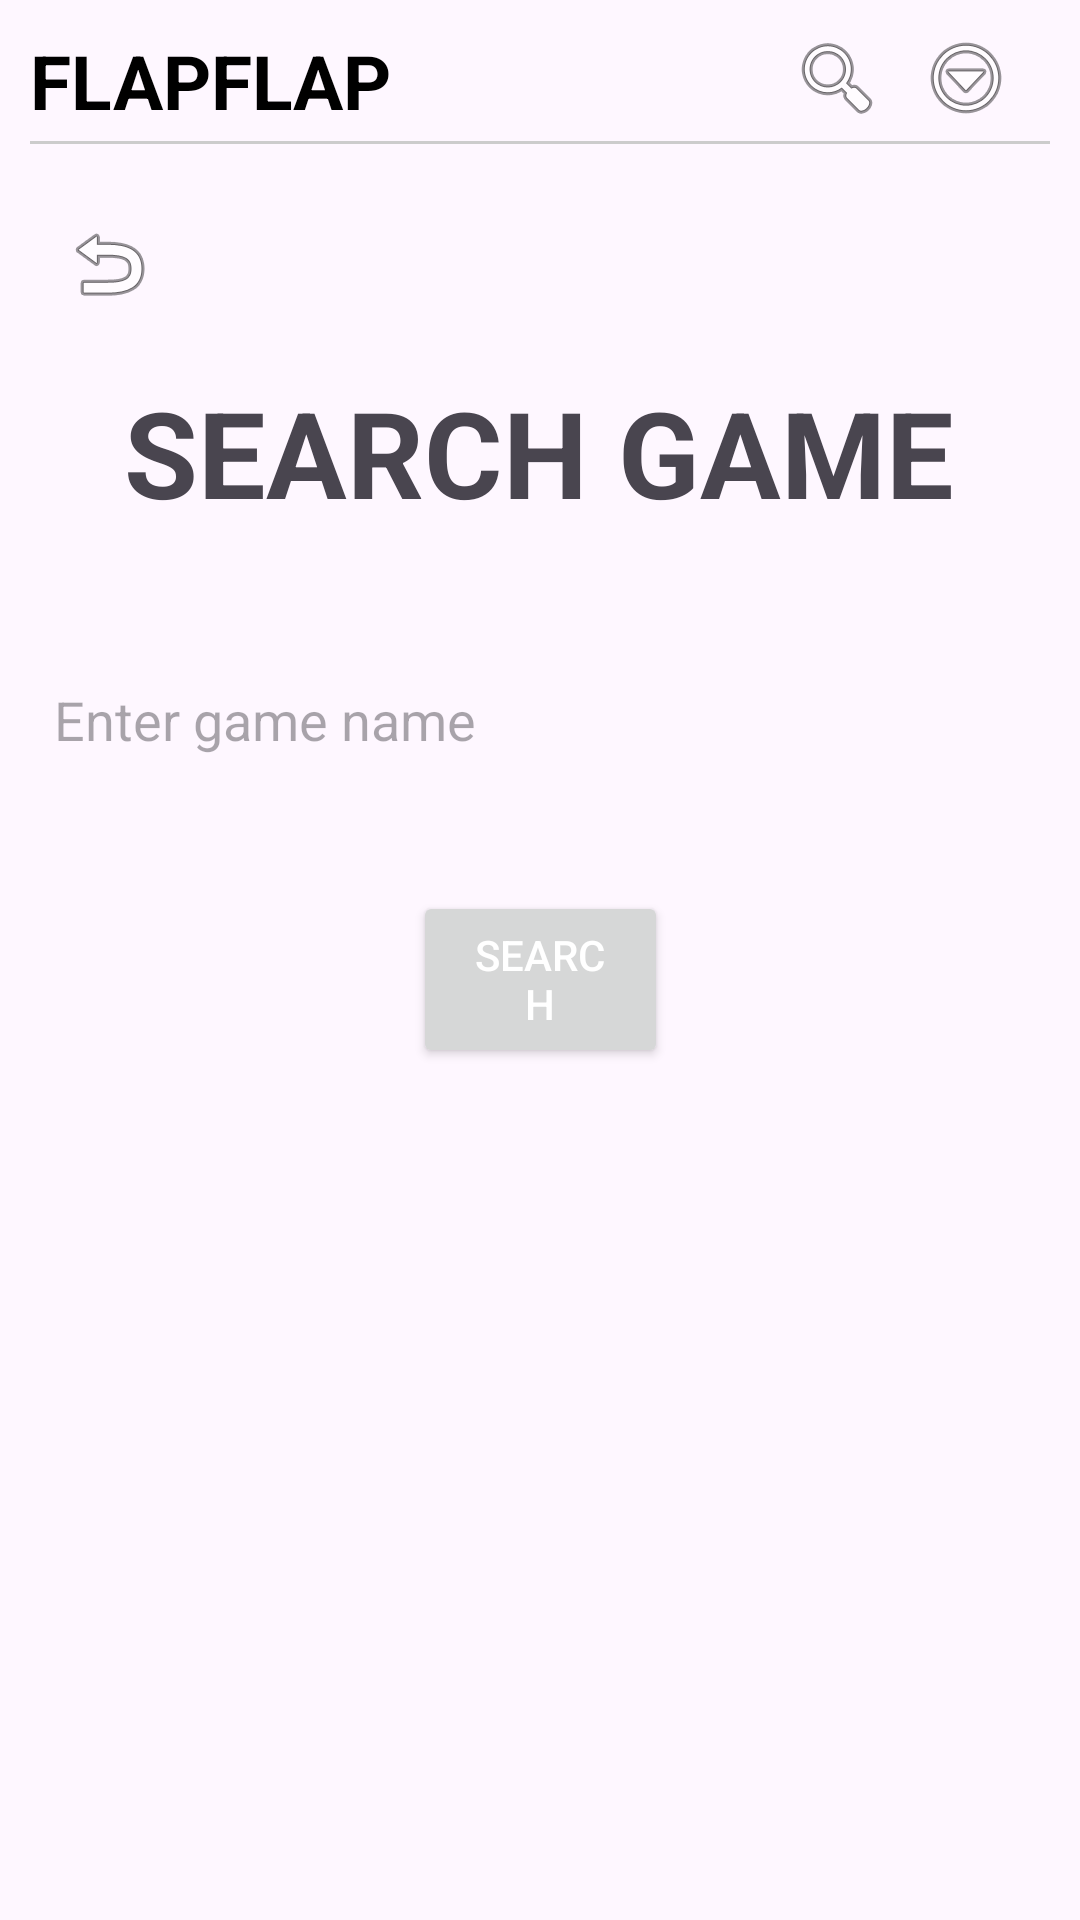

Screen size 1080w x 1920h. Icon name, then its center in pixels as (x=x, y=y):
Back: (x=110, y=264)
Menu: (x=966, y=78)
Search: (x=837, y=78)
